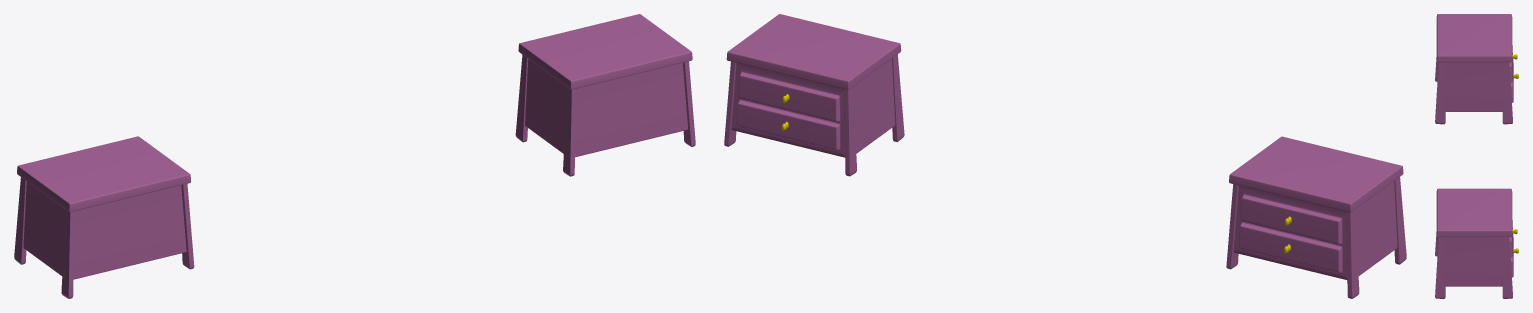
The model's file is buroCandace.obj.
3 renders of one model, left to right at view 1: azimuth 30°, elevation 25°; view 2: azimuth 150°, elevation 25°; view 3: azimuth 270°, elevation 25°, orthographic. The views are drawn at different scales.
Parts seen in each view (by area): view 1: buroCandace:polySurface59polySurface54, polySurface59polySurface54; view 2: buroCandace:polySurface59polySurface54, polySurface59polySurface54; view 3: polySurface59polySurface54, buroCandace:polySurface59polySurface54.
Boxes of the visible parts, left/top/right/bottom form: buroCandace:polySurface59polySurface54: left=14, top=136, right=194, bottom=298; polySurface59polySurface54: left=515, top=14, right=695, bottom=176; buroCandace:polySurface59polySurface54: left=1226, top=136, right=1406, bottom=298; polySurface59polySurface54: left=724, top=14, right=904, bottom=176; polySurface59polySurface54: left=1435, top=188, right=1518, bottom=298; buroCandace:polySurface59polySurface54: left=1435, top=14, right=1518, bottom=124.
Bounding box in the file's own units: 1.77 × 0.257 × 0.2867.
Materials: 2 (2 with a texture image).
